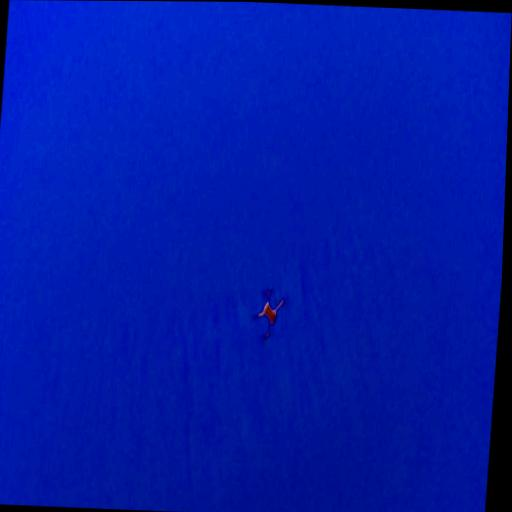drones: (246, 282, 289, 350)
